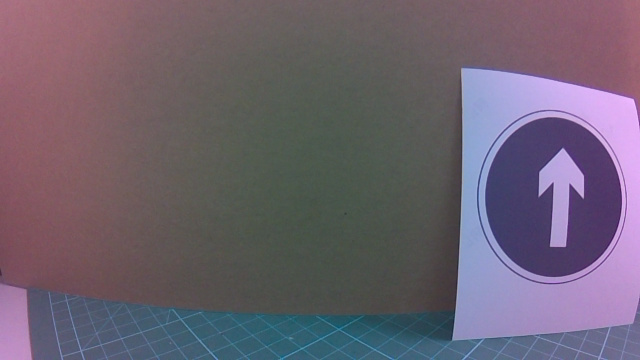forward: (452, 101, 640, 307)
